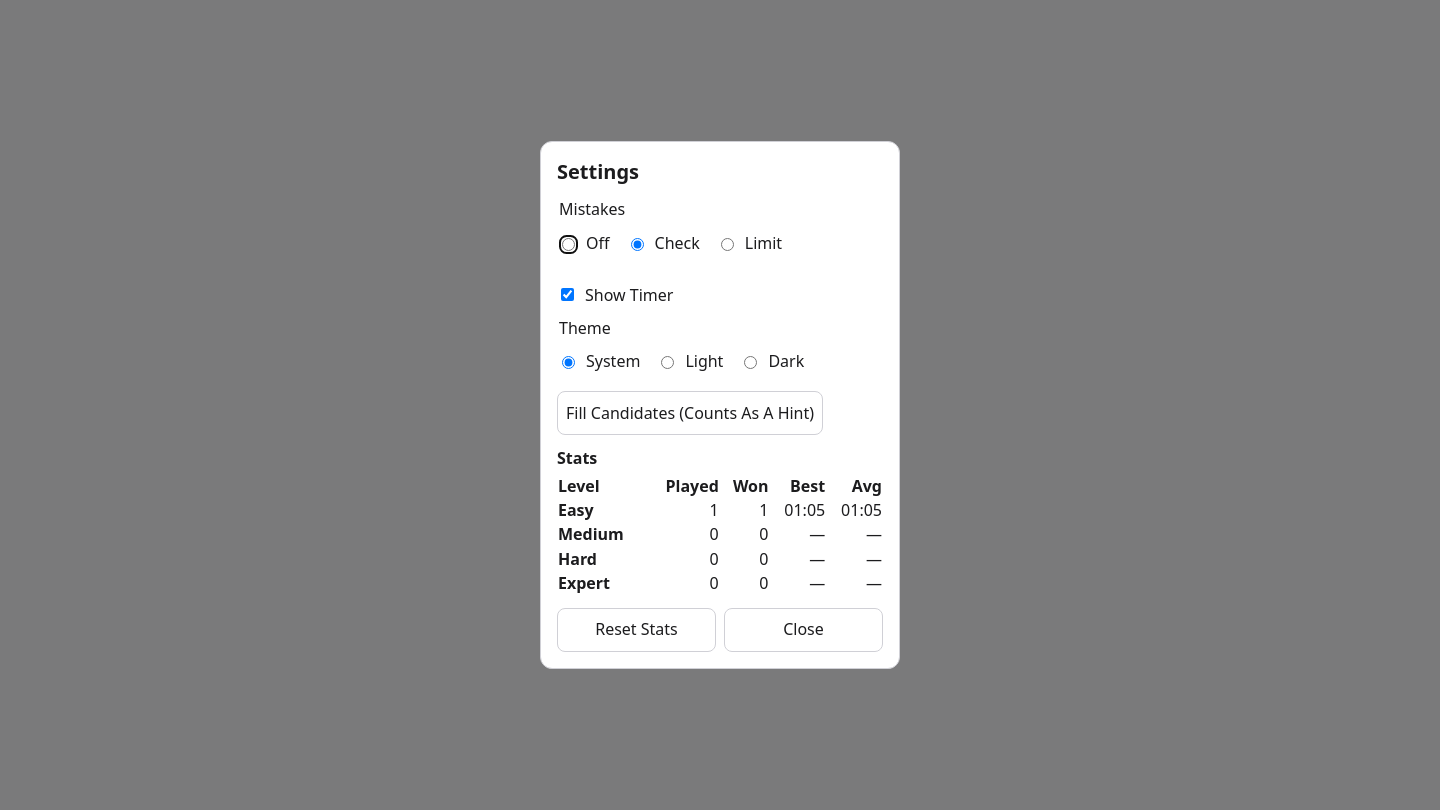
SettingsDialog › reset stats clears the table after confirmation
Check: the row "easy 1 1 01:05 01:05" is shown, box [557, 498, 883, 522]
Click the button "Reset stats" at (636,630), box [557, 608, 716, 652]
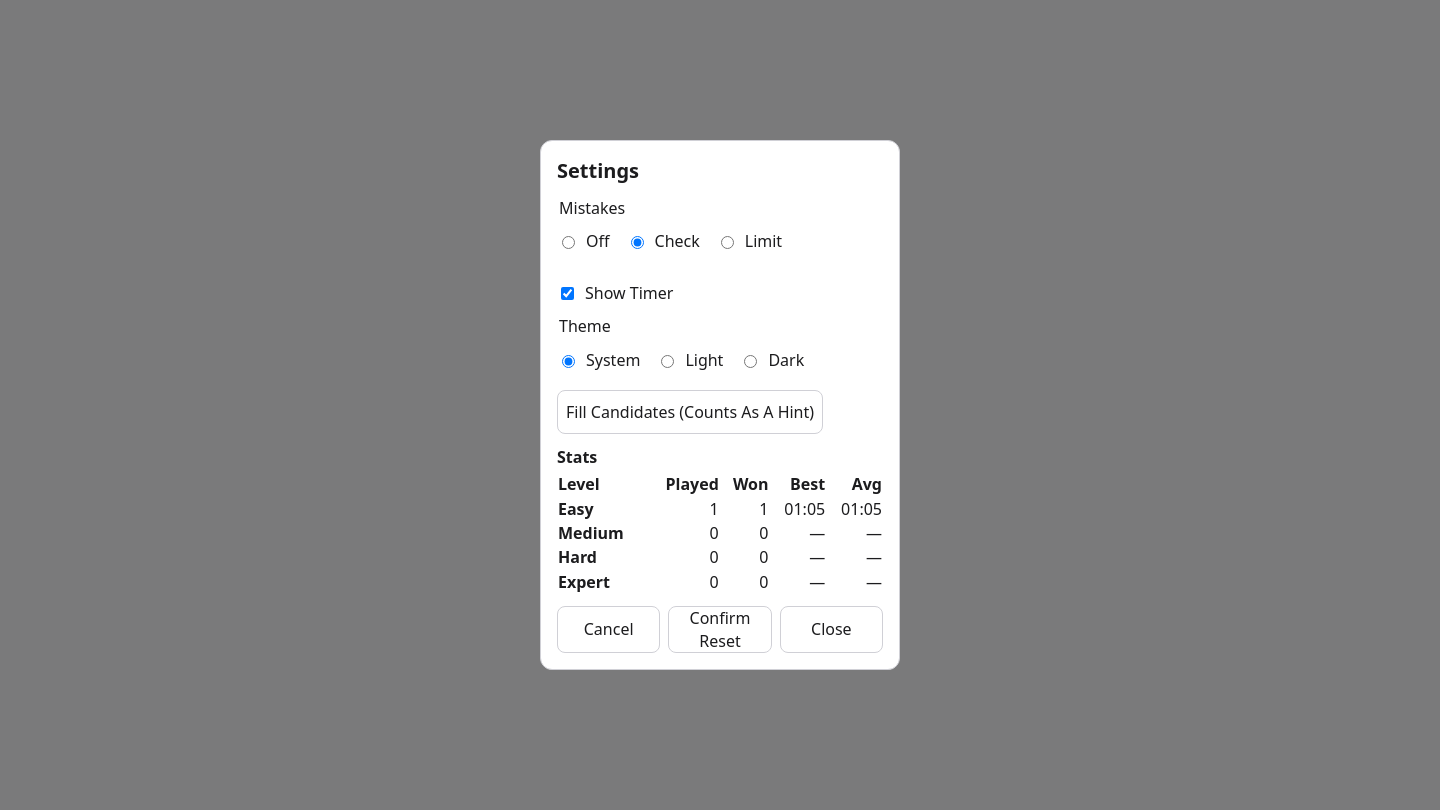
Click the button "Confirm reset" at (720,630), box [668, 606, 772, 653]
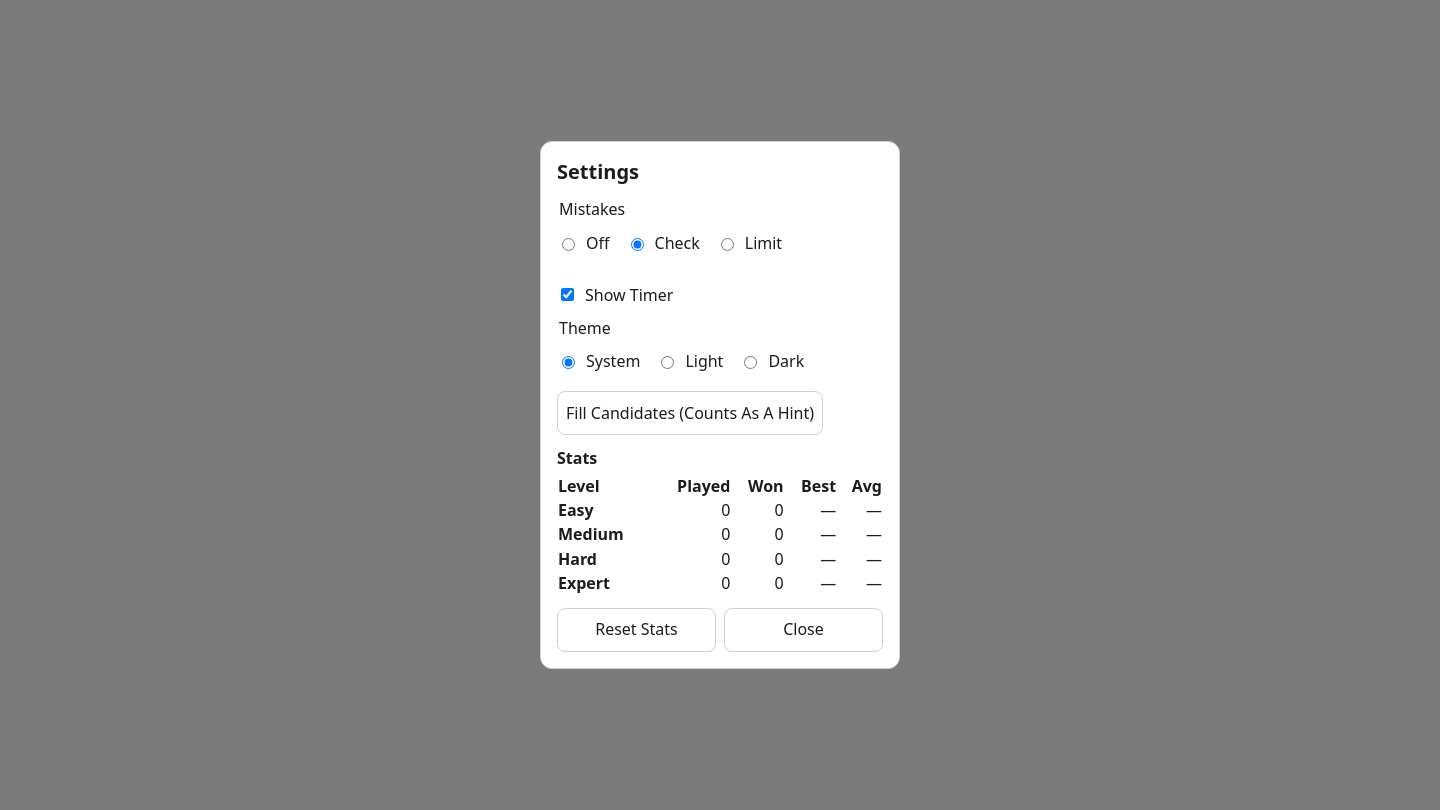
Check: the cell "easy" no longer shows "01:05"
